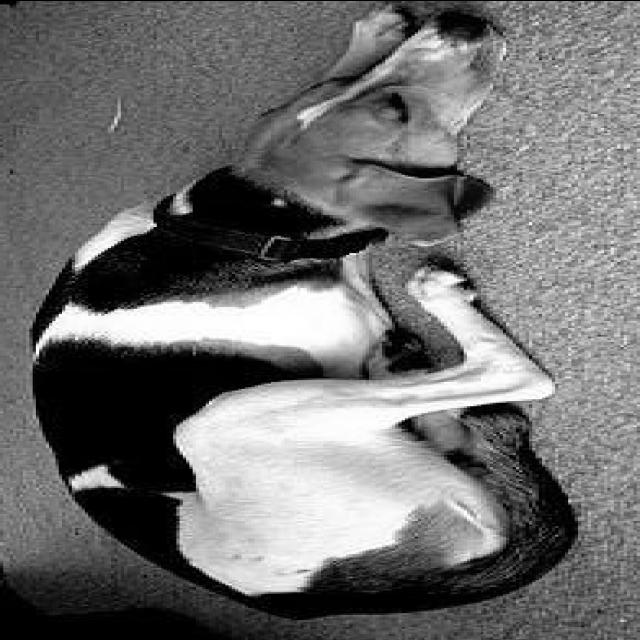laying down: (16, 0, 577, 624)
